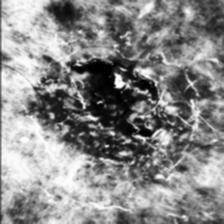Potentially Malignant Skin Tumors: (64, 60, 162, 144)
